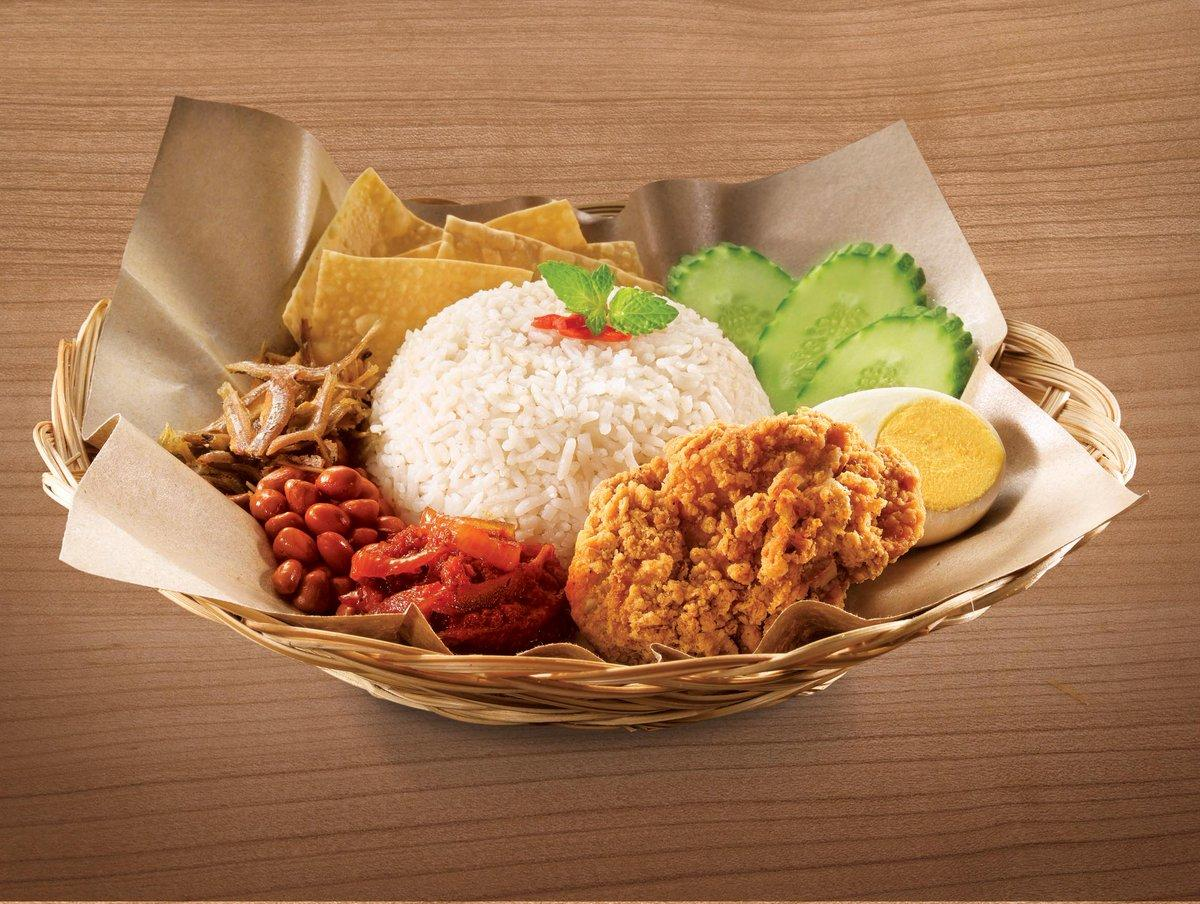Anchovies: (165, 353, 378, 500)
Boiled-Egg: (809, 391, 1007, 549)
Cucumber: (659, 243, 977, 417)
Fried-Chicken: (563, 410, 926, 667)
Keropok: (282, 171, 641, 399)
Peanuts: (239, 472, 393, 616)
Rice: (372, 282, 774, 553)
Sambal: (360, 518, 570, 655)
